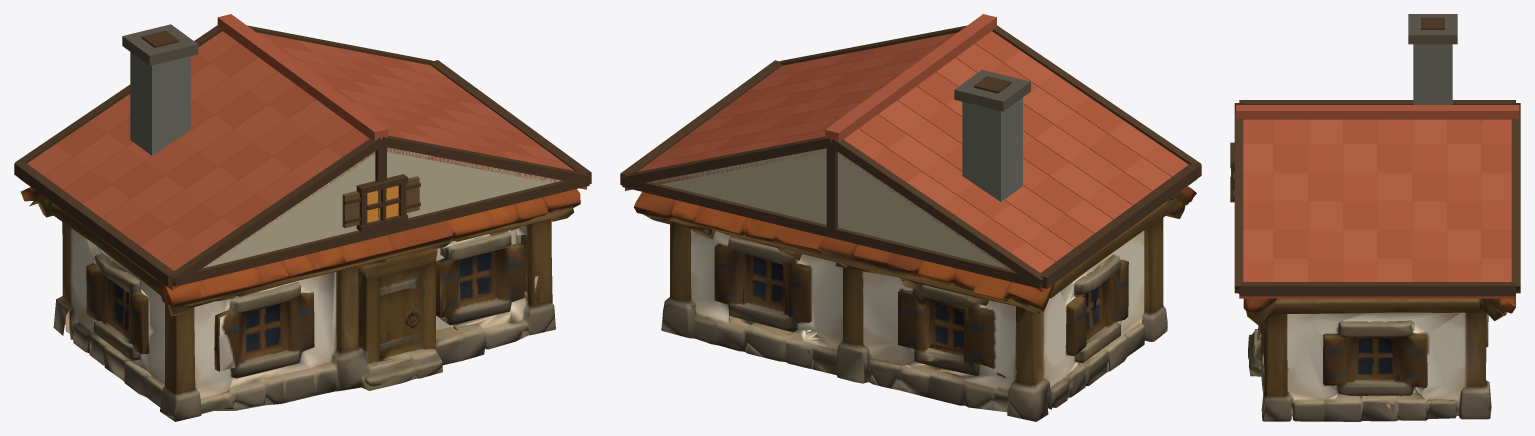
Rendered from house_a.glb.
The picture shows the model from 3 angles, left to right: view 1: azimuth 30°, elevation 25°; view 2: azimuth 150°, elevation 25°; view 3: azimuth 270°, elevation 25°; orthographic projection. The views are drawn at different scales.
Parts seen in each view (by area): view 1: house_a; view 2: house_a; view 3: house_a.
Part boxes in pixels (<box>): house_a: <box>14,14,591,421</box>; house_a: <box>620,14,1201,421</box>; house_a: <box>1230,14,1520,421</box>.
Bounding box in the file's own units: 7.16 × 4.91 × 4.72.
Materials: 11 (1 with a texture image).
